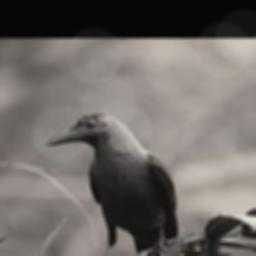Crow: (45, 112, 179, 256)
